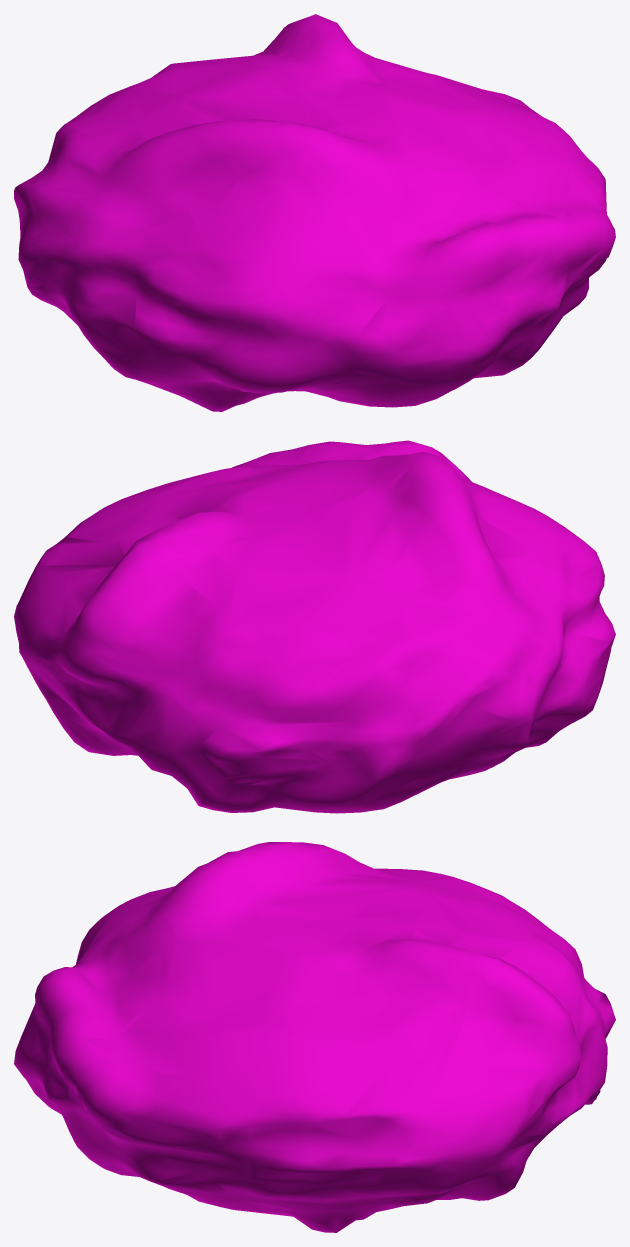
The model's file is PhiloStone_03.fbx.
3 views of the same model, one above another, from view 1: azimuth 30°, elevation 25°; view 2: azimuth 150°, elevation 25°; view 3: azimuth 270°, elevation 25° (orthographic).
Visible parts, largest first — view 1: PhiloStone.003; view 2: PhiloStone.003; view 3: PhiloStone.003.
Boxes of the visible parts, x1,y1,x2,y2 form: PhiloStone.003: (14,14,615,411); PhiloStone.003: (14,440,615,813); PhiloStone.003: (14,842,615,1232).
Bounding box in the file's own units: 23.46 × 12.33 × 24.31.
